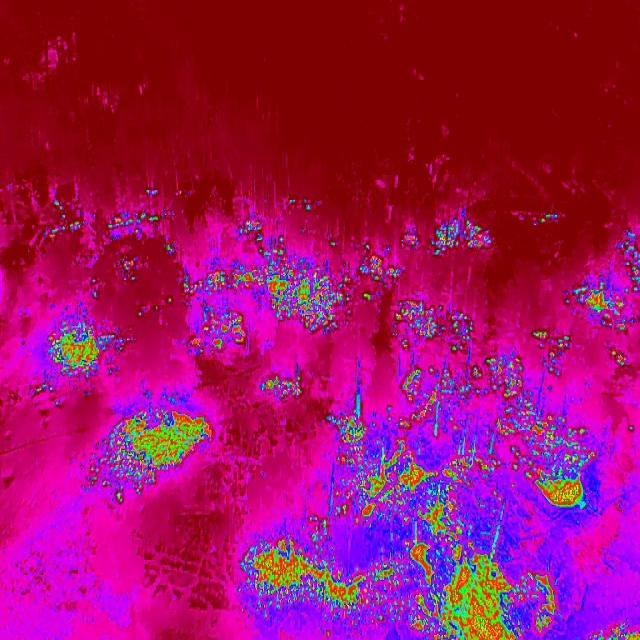fire: (175, 218, 398, 352), (326, 408, 482, 544), (366, 542, 560, 640), (235, 526, 368, 626), (88, 408, 214, 508), (490, 402, 596, 520), (394, 354, 536, 424), (392, 294, 480, 354), (42, 318, 121, 382), (104, 186, 180, 240), (565, 282, 635, 334), (407, 216, 493, 256), (45, 197, 88, 245), (260, 366, 308, 404), (532, 324, 574, 364), (620, 226, 640, 296), (132, 293, 174, 321), (583, 622, 640, 640), (520, 210, 570, 228), (280, 196, 324, 216), (116, 257, 142, 285), (608, 344, 628, 371)
